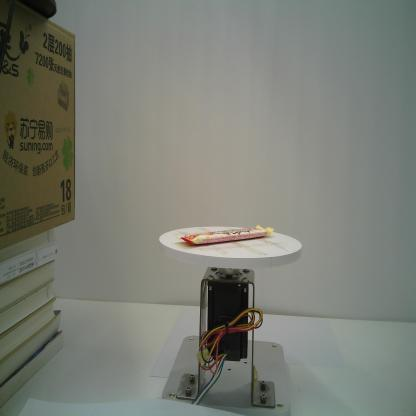Chocolate: (174, 225, 275, 244)
